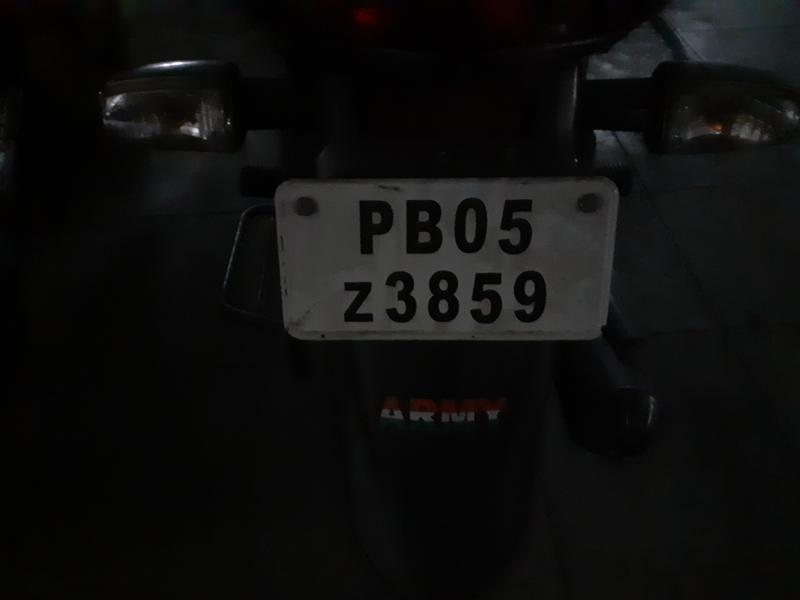numberplate: (275, 180, 625, 344)
